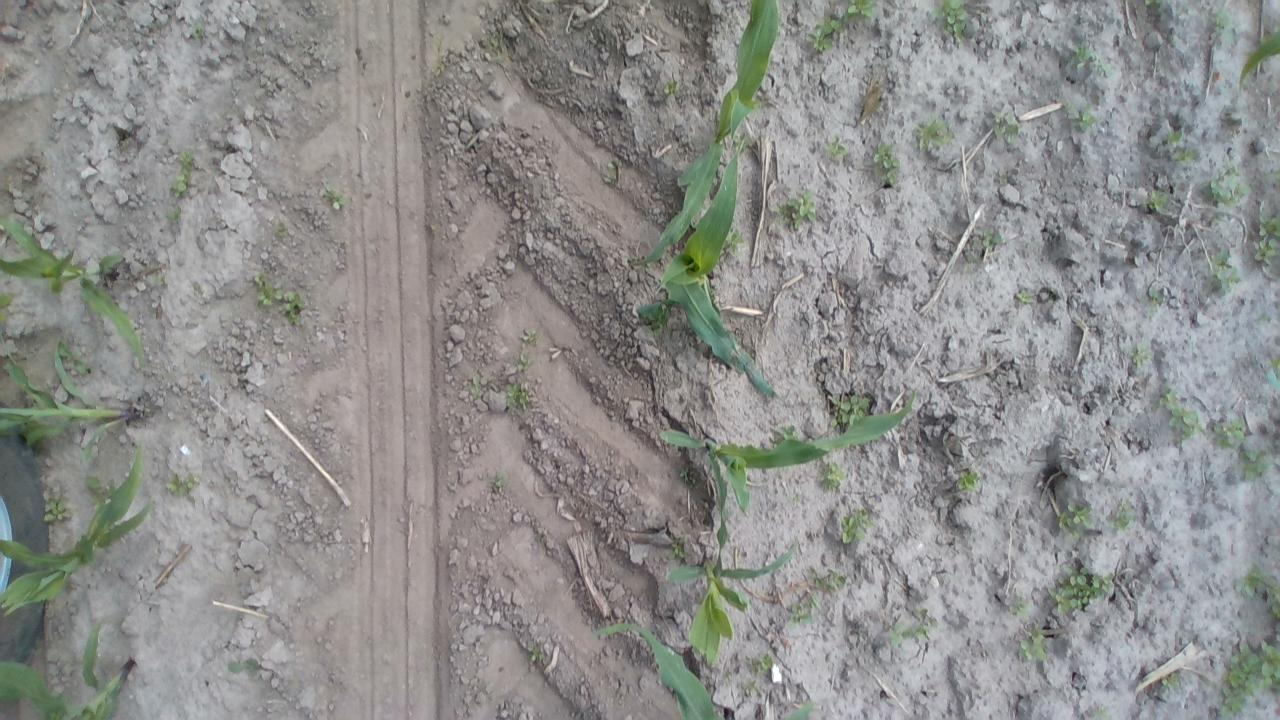Maize: (658, 384, 918, 582), (630, 0, 780, 266), (638, 128, 779, 398), (0, 442, 156, 616), (0, 217, 148, 362), (664, 536, 802, 672), (0, 338, 138, 468), (0, 618, 138, 720), (591, 618, 725, 720), (1237, 27, 1280, 94), (785, 699, 816, 720)
Weeds: (1217, 630, 1280, 720), (781, 564, 848, 635), (1050, 560, 1120, 620), (804, 0, 876, 56), (1154, 382, 1207, 443), (253, 271, 306, 327), (1236, 562, 1280, 620), (884, 604, 937, 650), (1202, 168, 1250, 211), (1058, 494, 1098, 544), (1207, 244, 1244, 298), (773, 187, 816, 232), (1068, 38, 1114, 80), (1014, 620, 1051, 668), (930, 0, 970, 42), (837, 503, 875, 547), (914, 113, 955, 153), (870, 138, 901, 190), (1250, 214, 1280, 267), (829, 392, 870, 428), (1059, 98, 1097, 136), (1205, 7, 1237, 52), (636, 296, 672, 334), (1240, 443, 1272, 484), (1212, 412, 1246, 449), (992, 105, 1022, 146), (1104, 500, 1138, 534), (85, 472, 116, 509), (170, 148, 192, 200), (164, 472, 200, 503), (56, 342, 88, 374), (1129, 334, 1157, 370), (40, 500, 76, 526), (950, 467, 979, 497), (820, 461, 846, 491), (506, 382, 532, 412), (1171, 145, 1201, 170), (764, 422, 799, 443), (227, 656, 260, 678), (1004, 592, 1030, 619), (822, 133, 846, 162), (322, 182, 346, 211), (468, 372, 490, 402), (484, 469, 508, 496), (487, 32, 506, 64), (978, 226, 1003, 250), (601, 160, 622, 187), (727, 228, 747, 256), (668, 532, 688, 560), (1158, 672, 1182, 694), (524, 642, 546, 666), (1147, 190, 1169, 212), (660, 78, 680, 100), (188, 18, 206, 42), (1013, 288, 1037, 306), (0, 292, 15, 320), (752, 650, 774, 669), (514, 351, 532, 373), (1146, 284, 1164, 304), (191, 280, 206, 299), (1170, 128, 1184, 148), (519, 328, 536, 344), (276, 218, 290, 237), (742, 680, 758, 696), (1140, 0, 1166, 9), (168, 204, 180, 220), (1269, 352, 1280, 368), (1269, 167, 1280, 183), (720, 665, 731, 681), (424, 219, 437, 232), (152, 276, 166, 288), (679, 468, 690, 483), (794, 489, 802, 506)
